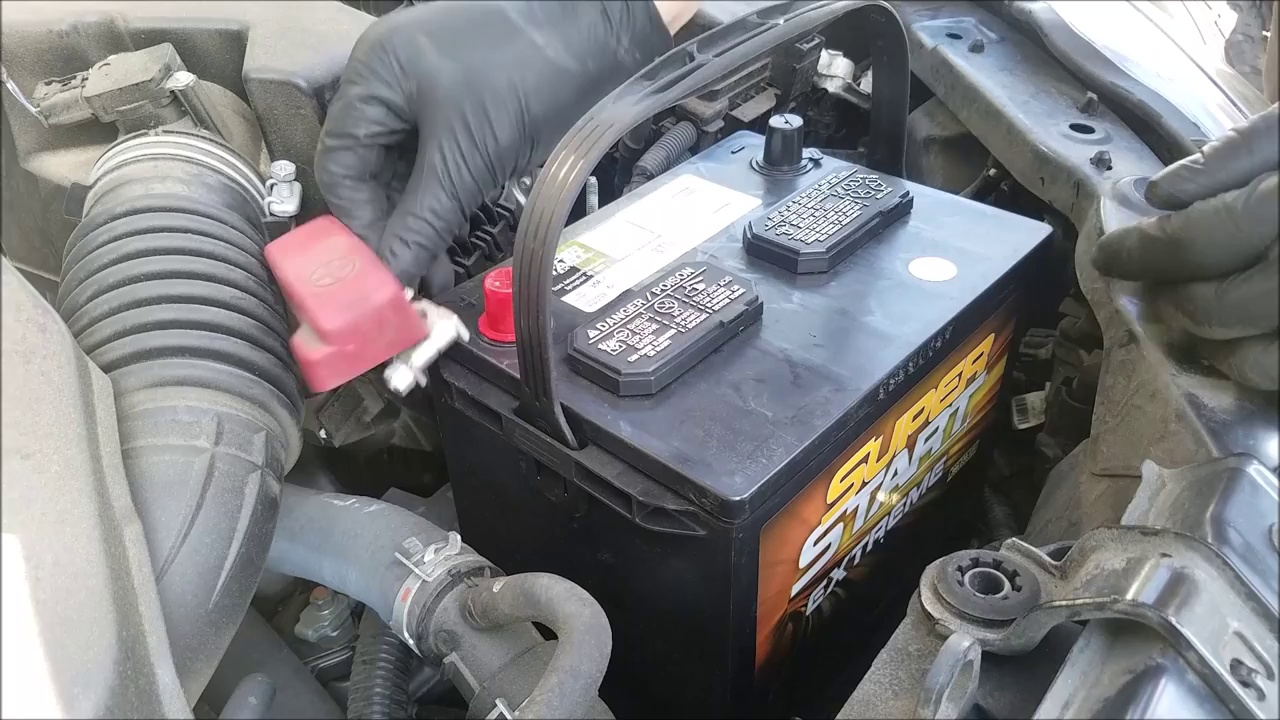battery: (428, 121, 1053, 499)
pos_disconnected: (258, 187, 545, 416)
pos_touched: (316, 130, 538, 346)
